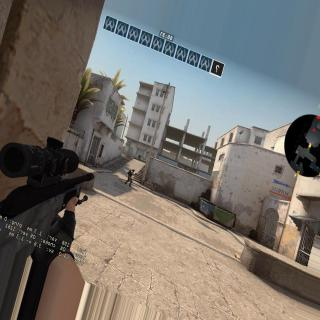CT-Body: (125, 168, 136, 186), (138, 154, 142, 161)
CT-Head: (132, 168, 134, 172), (140, 154, 142, 156)
